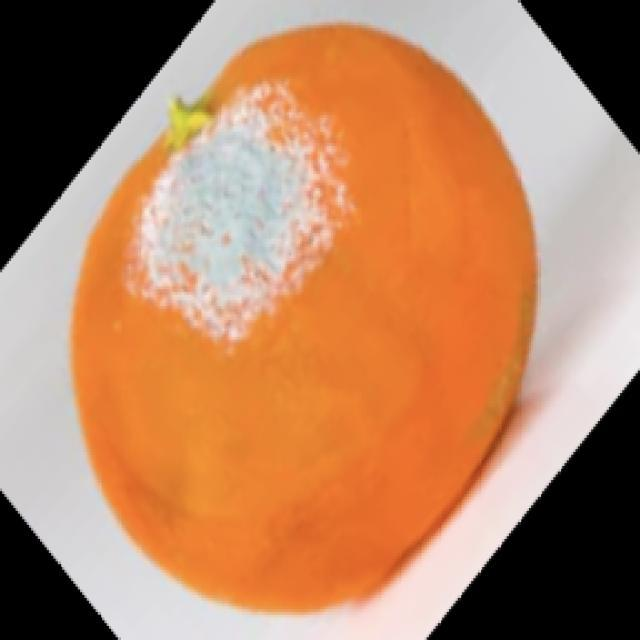sedikit-busuk: (73, 25, 536, 610)
